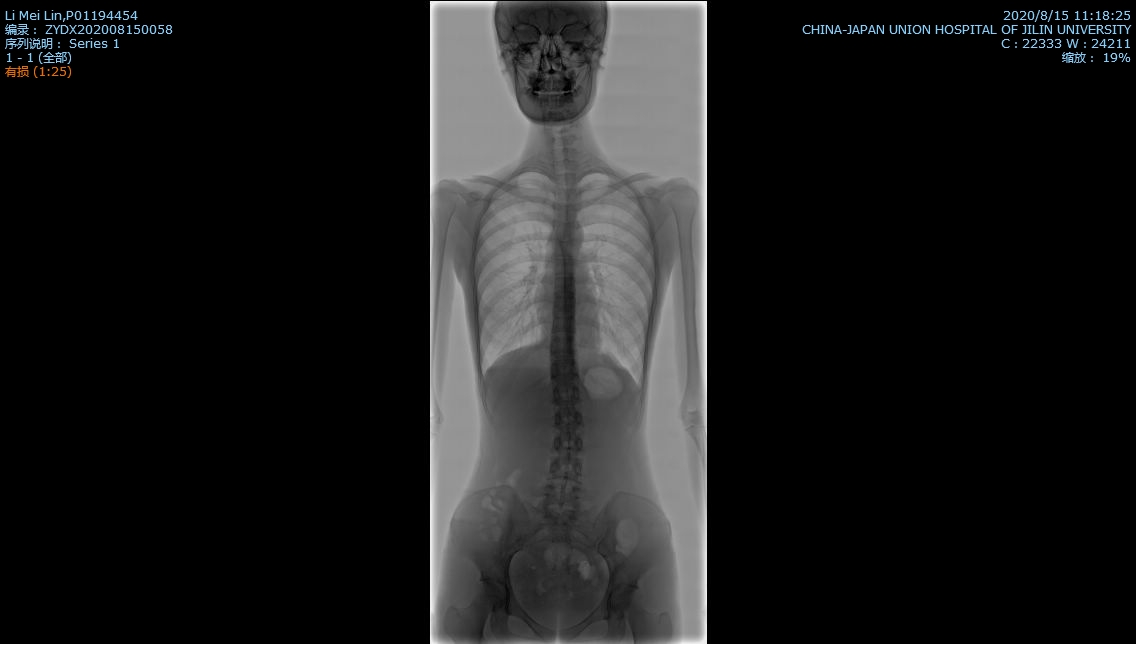Bone: (549, 458, 583, 482), (546, 489, 581, 508), (552, 434, 582, 451), (549, 337, 575, 355), (549, 363, 578, 379), (551, 387, 578, 404), (555, 412, 581, 428), (554, 296, 575, 312), (551, 317, 574, 331), (554, 278, 576, 292), (554, 259, 574, 274)
